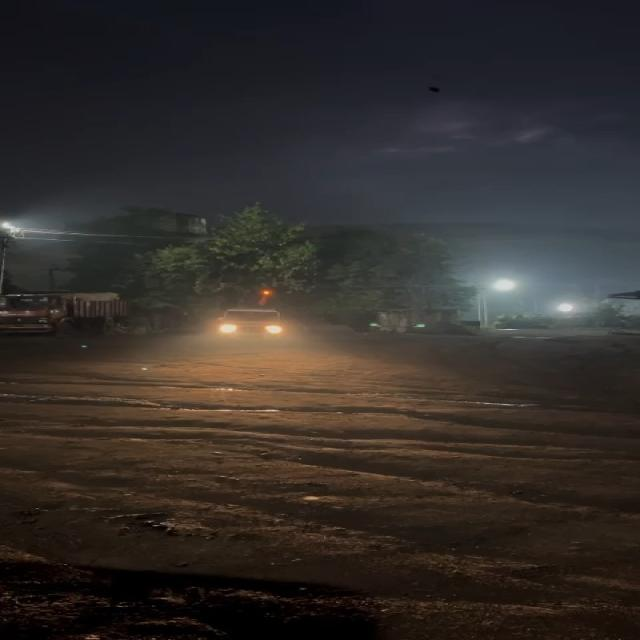light_vehicle: (219, 306, 281, 344)
